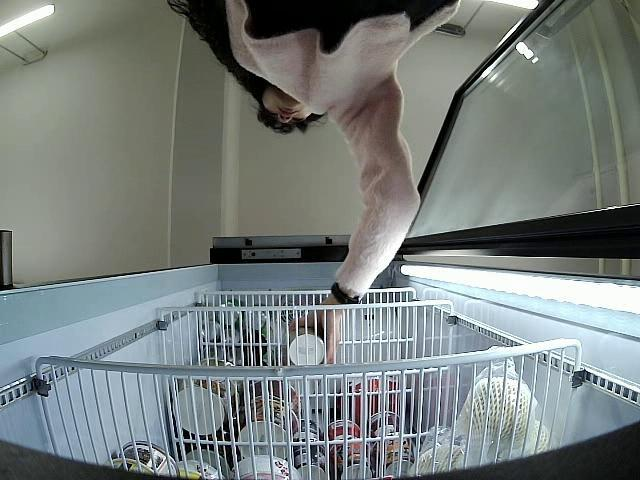04_chapagetti_S: (282, 325, 326, 369)
